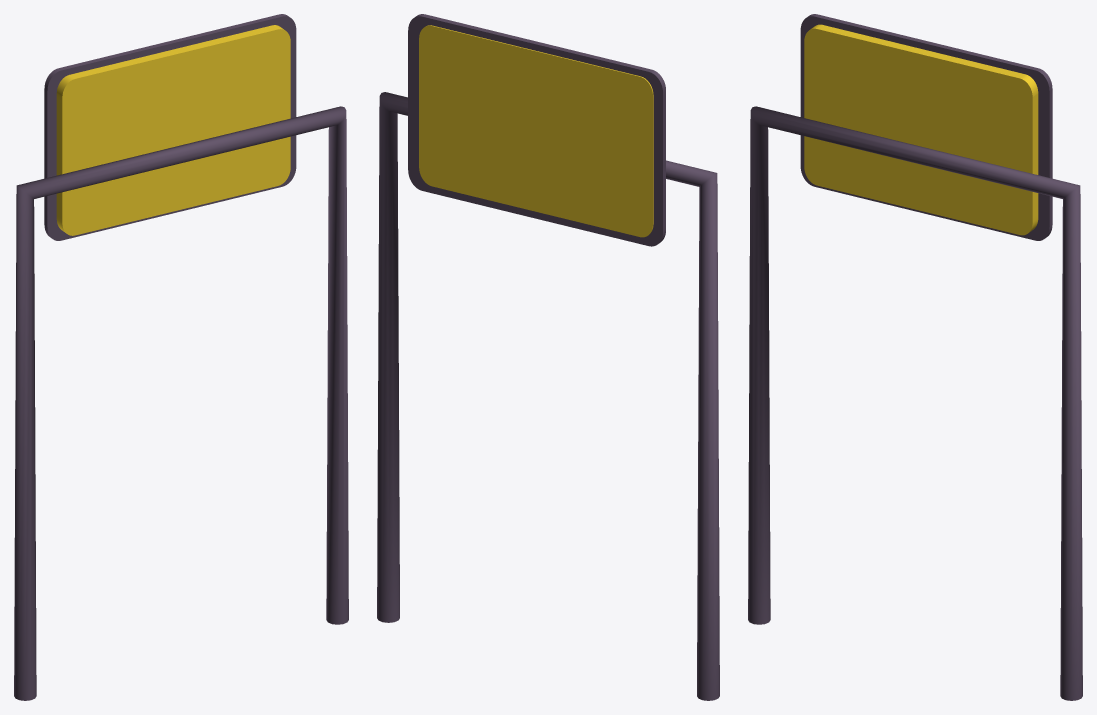
File: Billboard_DefaultTheme.fbx
The picture shows the model from 3 angles, left to right: view 1: azimuth 30°, elevation 25°; view 2: azimuth 150°, elevation 25°; view 3: azimuth 330°, elevation 25°; orthographic projection. The views are drawn at different scales.
Parts seen in each view (by area): view 1: Board, Cube, Cube (1); view 2: Board, Cube, Cube (1); view 3: Board, Cube, Cube (1).
Part boxes in pixels (box(x1,y1,x2,y2)): Board: box(56, 25, 290, 235); Cube: box(14, 106, 348, 700); Cube (1): box(44, 14, 296, 240); Board: box(419, 25, 653, 237); Cube: box(377, 92, 719, 700); Cube (1): box(408, 14, 665, 246); Board: box(804, 24, 1038, 235); Cube: box(748, 106, 1082, 700); Cube (1): box(800, 14, 1052, 240).
Bounding box in the file's own units: 9.18 × 16.06 × 0.9.
